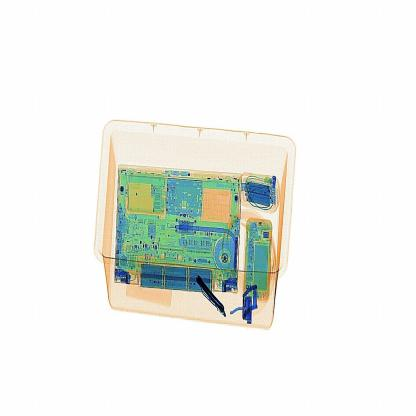knife: (196, 271, 228, 318)
